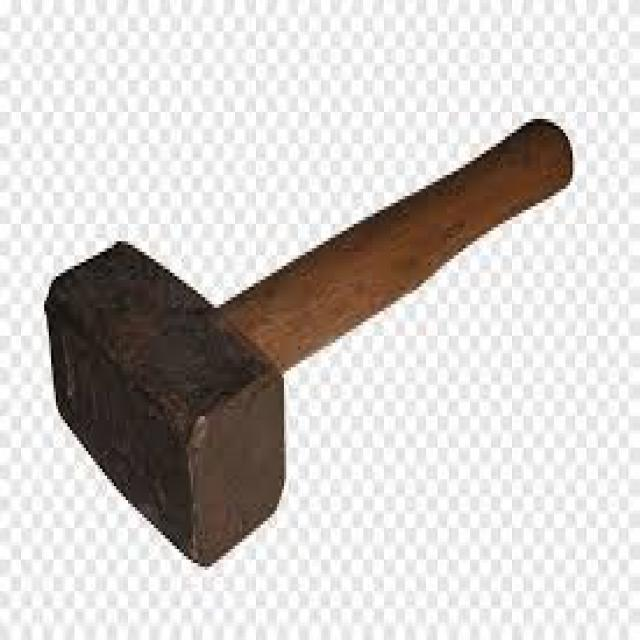hammer: (41, 101, 578, 566)
